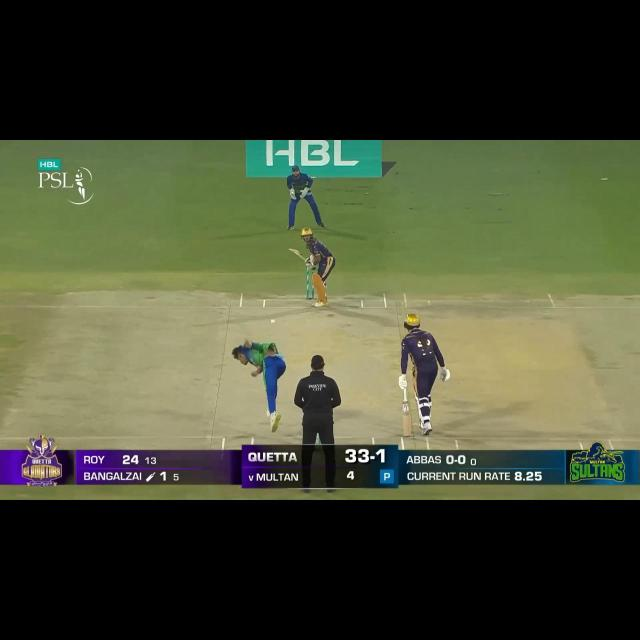bat: (401, 402, 412, 437), (286, 247, 306, 261)
toe: (401, 431, 414, 437), (286, 246, 296, 253)
